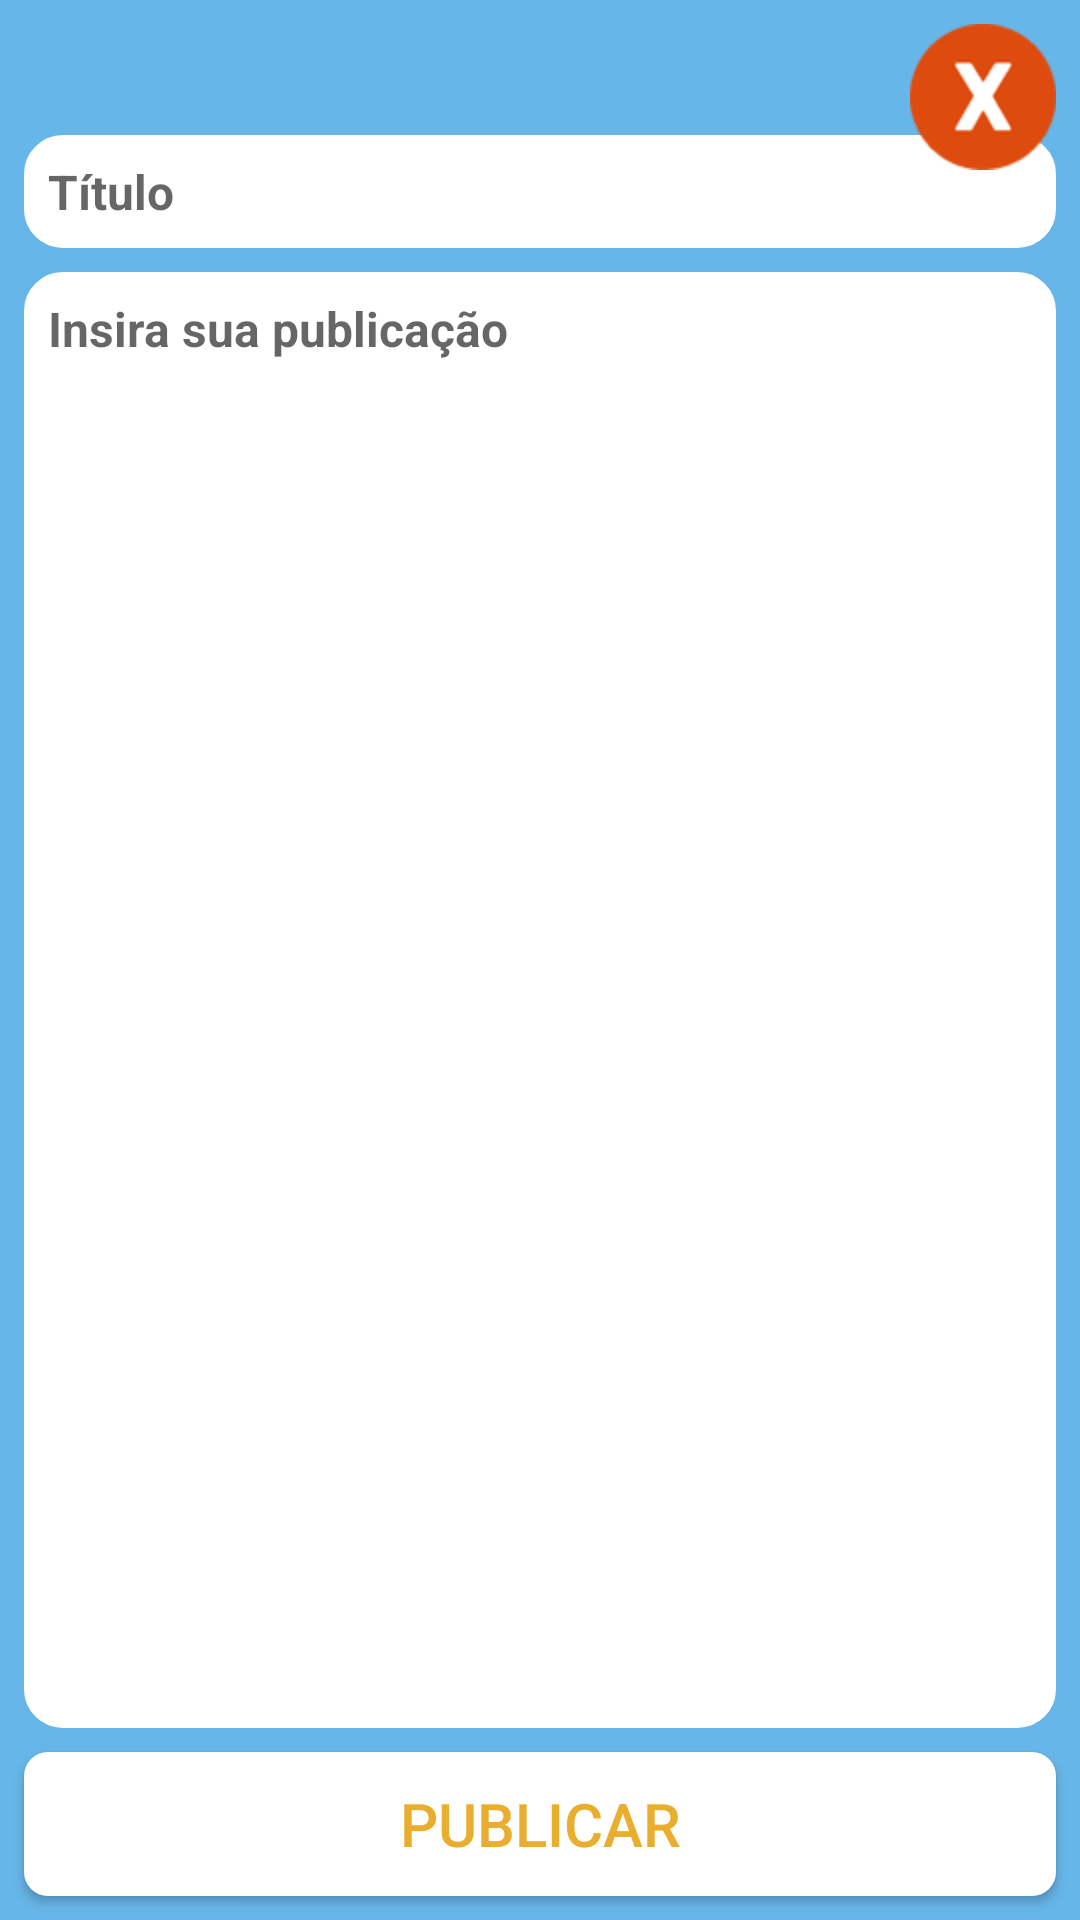

Where icons sit on this 1080px x 1920px app screen, as (x1, y1, x2, y2):
iconex: (910, 24, 1056, 170)
